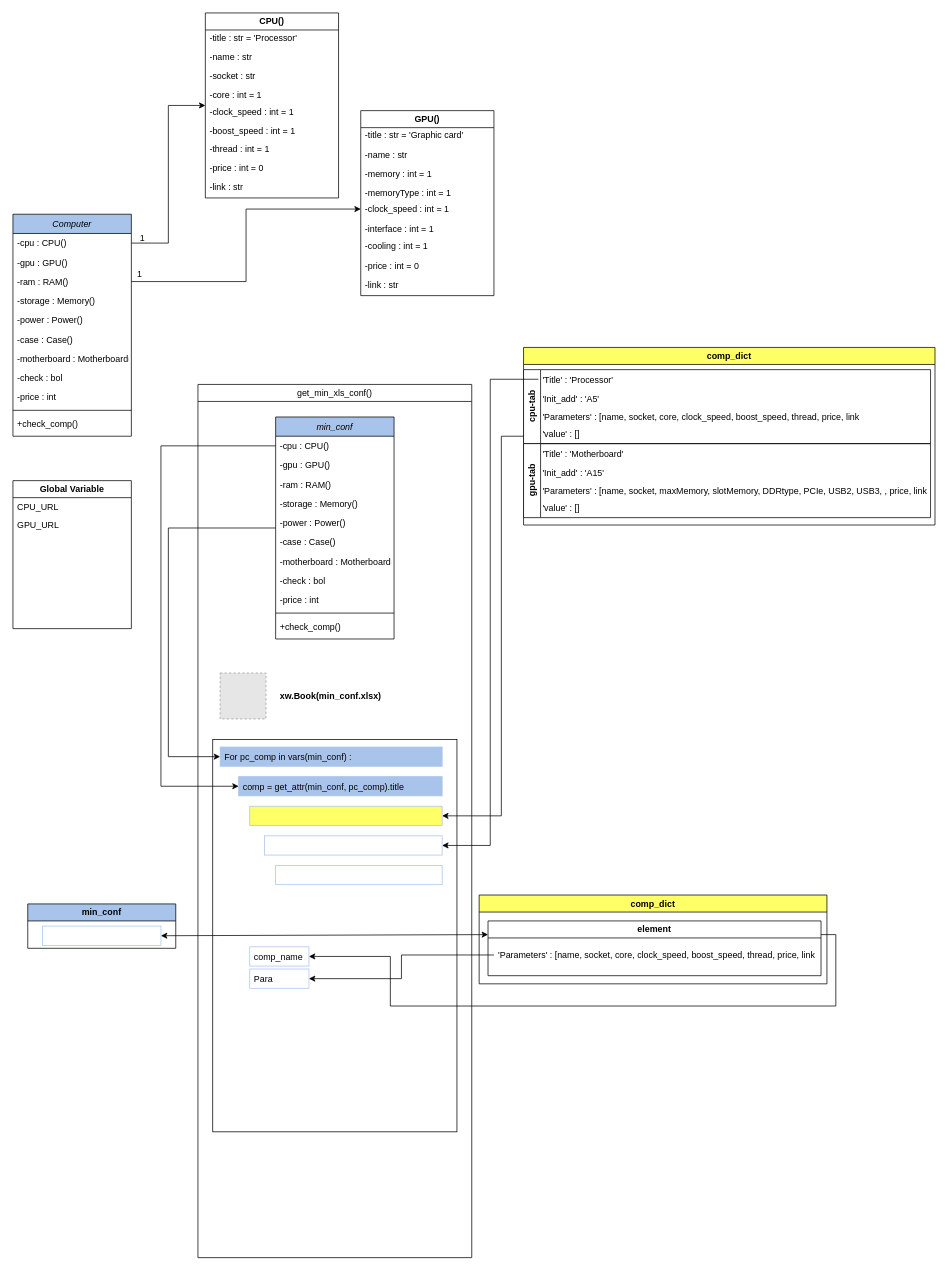
The diagram is 948 pixels wide and 1271 high, and some of its shapes have lost their labels. Grey dashed boxes stand in for pictures. The shapes that lost their labels are listed below. From the top down, each one's centre as x and y in pixels, then its label:
the point at 345,815: for element in comp_dict
the point at 353,845: if element.title = comp
the point at 358,875: comp_name = element
the point at 101,935: comp
